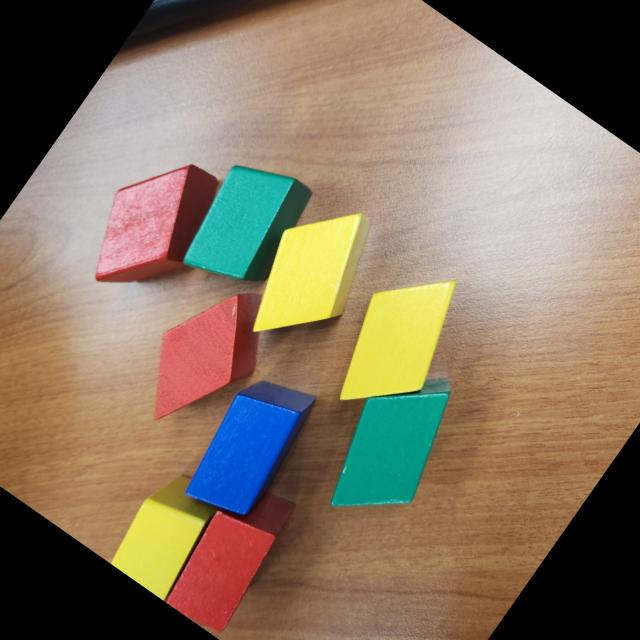blue: (171, 358, 328, 532)
green: (304, 347, 482, 544), (170, 144, 323, 308)
red: (120, 261, 292, 450), (66, 133, 238, 320), (156, 468, 306, 638)
yellow: (312, 246, 484, 434), (225, 184, 395, 368), (102, 462, 232, 602)
